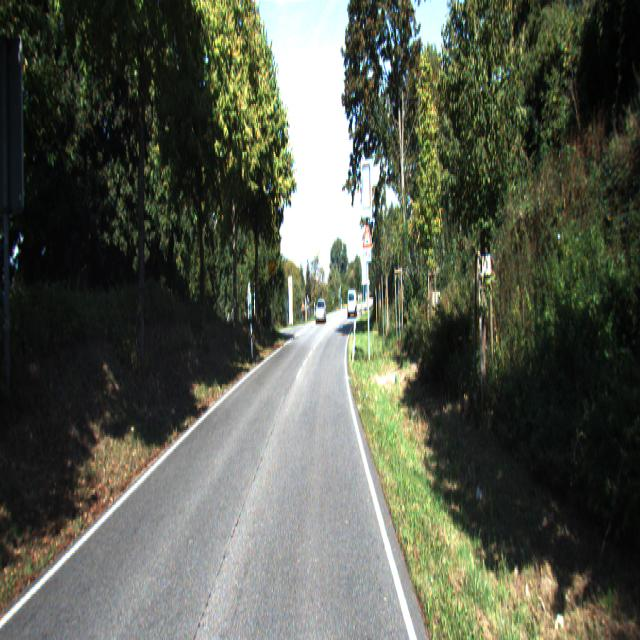Car: (316, 298, 326, 323)
